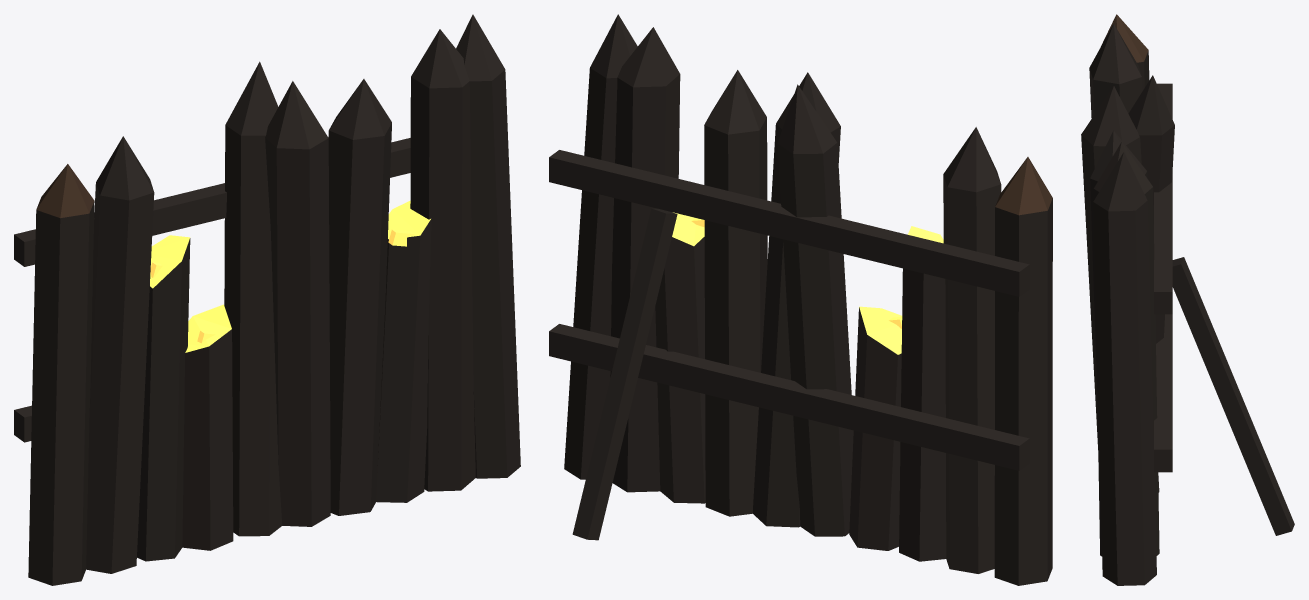
The model's file is Palisade_Segment_Verkohlt.fbx.
3 renders of one model, left to right at view 1: azimuth 30°, elevation 25°; view 2: azimuth 150°, elevation 25°; view 3: azimuth 270°, elevation 25°, orthographic. The views are drawn at different scales.
Parts seen in each view (by area): view 1: Palisade_Segment_Verkohlt; view 2: Palisade_Segment_Verkohlt; view 3: Palisade_Segment_Verkohlt.
Boxes of the visible parts, bbox=[...] form: Palisade_Segment_Verkohlt: bbox=[14, 14, 520, 585]; Palisade_Segment_Verkohlt: bbox=[549, 14, 1052, 585]; Palisade_Segment_Verkohlt: bbox=[1081, 14, 1294, 585].
Bounding box in the file's own units: 4.03 × 3.68 × 1.72.
